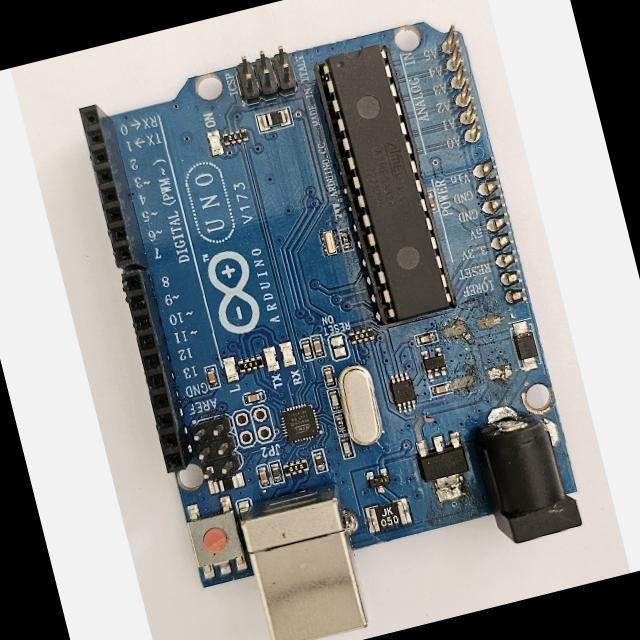missing_analog_pins: (431, 15, 536, 316)
missing_capacitors: (439, 306, 518, 398)
